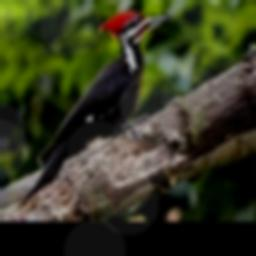Woodpecker: (21, 9, 172, 202)
